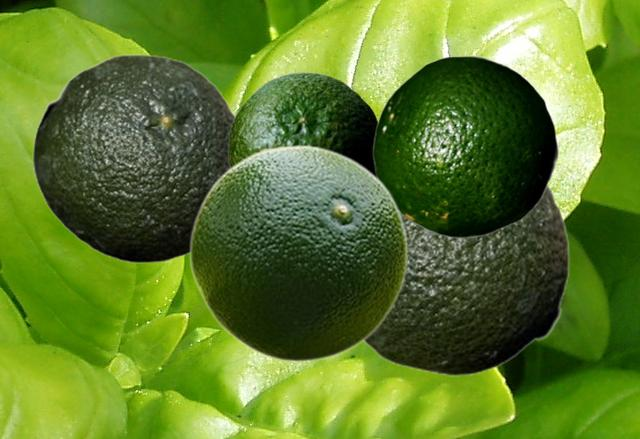calamansi: (188, 144, 408, 361), (32, 54, 235, 262), (362, 183, 569, 375), (372, 55, 558, 237), (227, 71, 378, 170)
